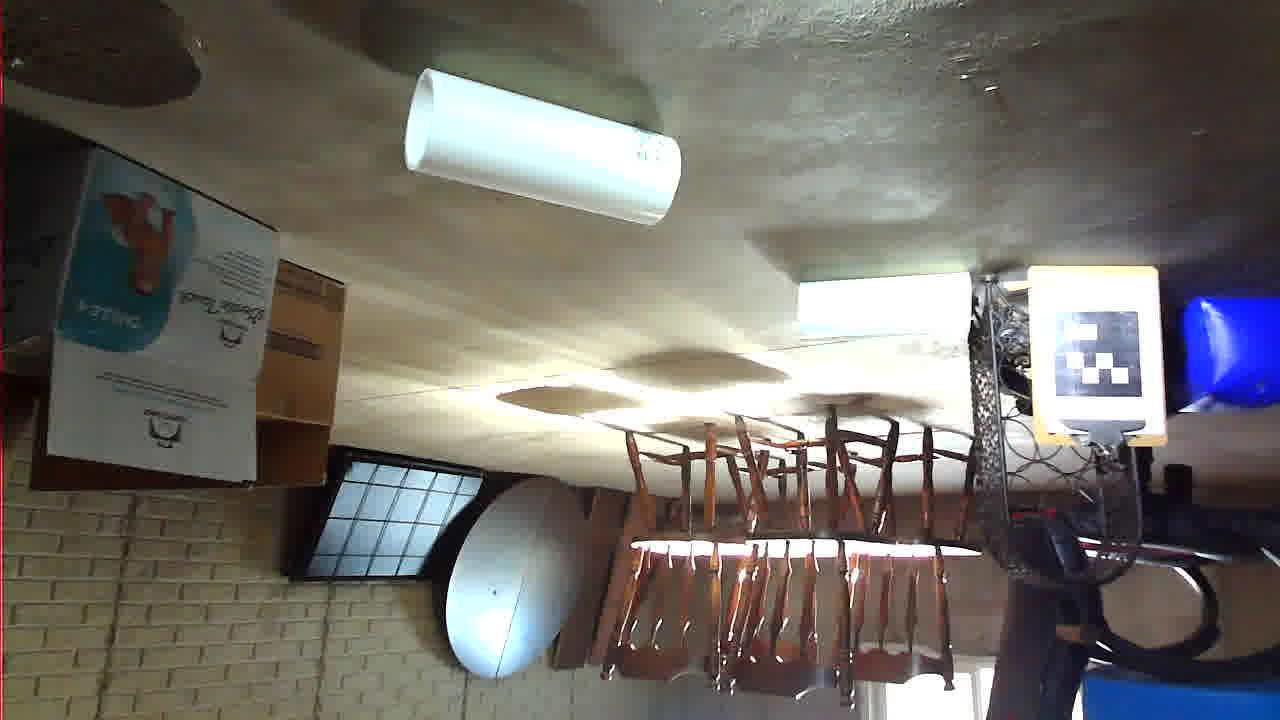coral: (599, 492, 876, 654), (307, 379, 485, 451)
